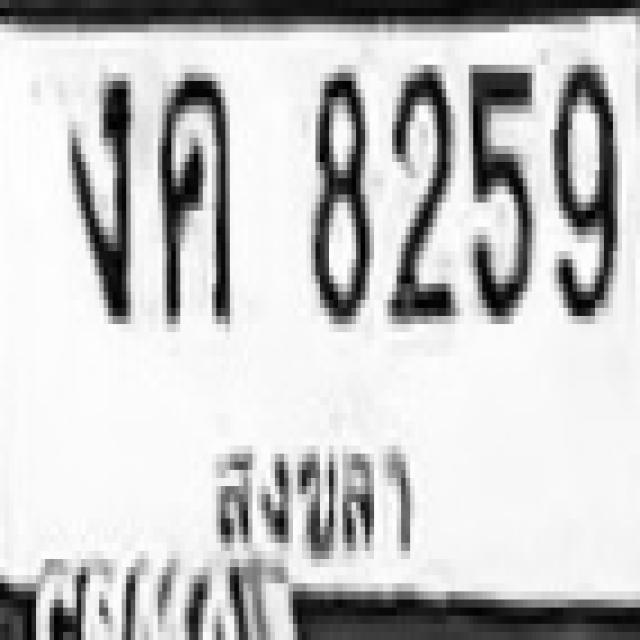13KhorKhwai: (156, 65, 228, 316)
16NgorNgu: (63, 65, 126, 316)
2: (385, 57, 453, 316)
5: (464, 57, 528, 316)
8: (307, 65, 365, 316)
9: (550, 57, 613, 316)
Songkhla: (206, 422, 425, 574)
